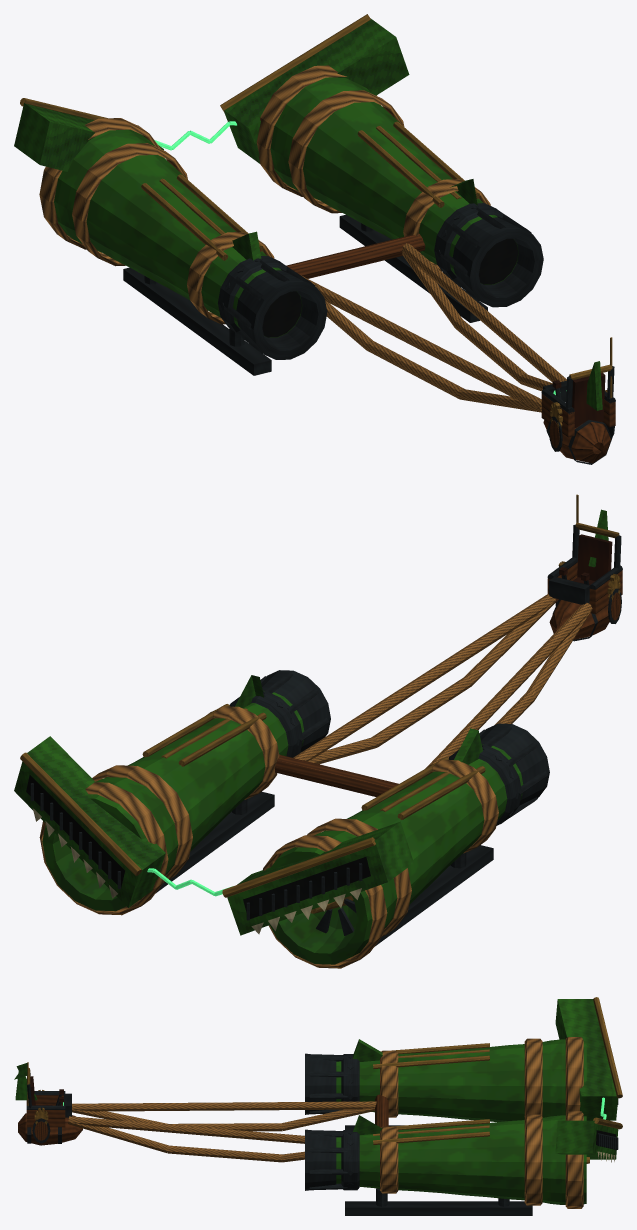
Rendered from dug-racer-green.glb.
3 renders of one model, top to bottom at view 1: azimuth 30°, elevation 25°; view 2: azimuth 150°, elevation 25°; view 3: azimuth 270°, elevation 25°, orthographic. The views are drawn at different scales.
Visible parts, largest first — view 1: Faceted engine casing.001, Faceted engine casing, Angular brow armor.001, Hollow exhaust.001, Hollow exhaust, Angular brow armor, Landing skid, TowLineL, Riveted hoop.006, Riveted hoop.002, TowLineR, Riveted hoop.007 (+22 smaller); view 2: Faceted engine casing.001, Faceted engine casing, Angular brow armor.001, Angular brow armor, TowLineR, TowLineL, Riveted hoop.007, Riveted hoop.006, Dark slanted intake, Riveted hoop.003, Rear cross brace, Hollow exhaust (+21 smaller); view 3: Faceted engine casing.001, Faceted engine casing, Angular brow armor, Landing skid.001, TowLineL, TowLineR, Angular brow armor.001, Riveted hoop.006, Riveted hoop.002, Hollow exhaust.001, Riveted hoop.003, Riveted hoop.005 (+20 smaller).
Boxes of the visible parts, left/top/right/bottom form: Faceted engine casing.001: left=270, top=77, right=518, bottom=284; Faceted engine casing: left=54, top=129, right=302, bottom=337; Angular brow armor.001: left=224, top=18, right=409, bottom=163; Hollow exhaust.001: left=452, top=217, right=543, bottom=307; Hollow exhaust: left=236, top=270, right=327, bottom=359; Angular brow armor: left=14, top=103, right=163, bottom=171; Landing skid: left=123, top=267, right=271, bottom=375; TowLineL: left=301, top=275, right=541, bottom=408; Riveted hoop.006: left=288, top=90, right=404, bottom=213; Riveted hoop.002: left=72, top=143, right=187, bottom=266; TowLineR: left=402, top=243, right=566, bottom=382; Riveted hoop.007: left=256, top=65, right=376, bottom=196; Faceted engine casing.001: left=42, top=690, right=304, bottom=911; Faceted engine casing: left=269, top=744, right=523, bottom=964; Angular brow armor.001: left=14, top=736, right=165, bottom=907; Angular brow armor: left=227, top=821, right=413, bottom=935; TowLineR: left=293, top=594, right=555, bottom=761; TowLineL: left=426, top=602, right=592, bottom=767; Riveted hoop.007: left=39, top=782, right=168, bottom=915; Riveted hoop.006: left=92, top=765, right=192, bottom=882; Dark slanted intake: left=243, top=857, right=370, bottom=918; Riveted hoop.003: left=262, top=835, right=387, bottom=968; Rear cross brace: left=274, top=754, right=398, bottom=796; Hollow exhaust: left=480, top=723, right=549, bottom=805; Faceted engine casing.001: left=336, top=1115, right=586, bottom=1204; Faceted engine casing: left=336, top=1039, right=586, bottom=1122; Angular brow armor: left=555, top=999, right=618, bottom=1120; Landing skid.001: left=345, top=1201, right=532, bottom=1215; TowLineL: left=72, top=1101, right=376, bottom=1111; TowLineR: left=68, top=1116, right=304, bottom=1143; Angular brow armor.001: left=555, top=1120, right=618, bottom=1159; Riveted hoop.006: left=524, top=1114, right=542, bottom=1205; Riveted hoop.002: left=524, top=1038, right=542, bottom=1116; Hollow exhaust.001: left=305, top=1129, right=336, bottom=1190; Riveted hoop.003: left=565, top=1037, right=583, bottom=1113; Riveted hoop.005: left=380, top=1126, right=398, bottom=1193.
Size of the model in its own units: 5.4 by 2.31 by 10.71.
9 materials, 9 textured.
